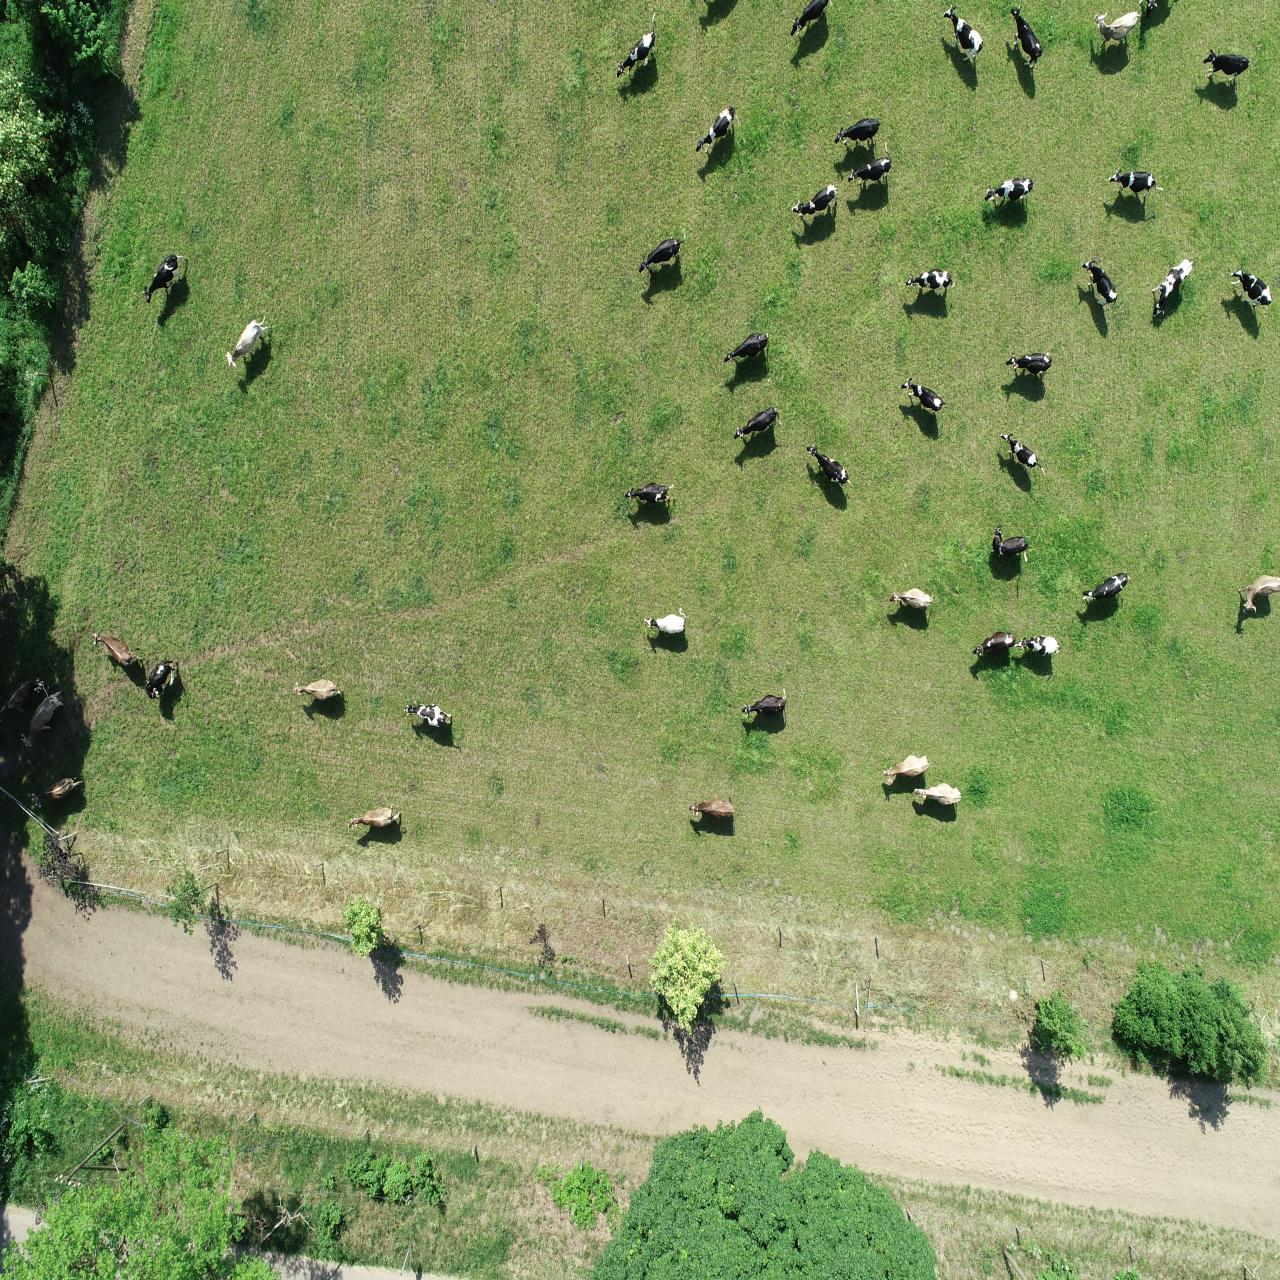cow: (86, 621, 143, 682), (1146, 257, 1198, 320), (692, 103, 744, 163), (222, 312, 273, 372), (940, 2, 986, 67), (636, 230, 690, 280), (1005, 2, 1043, 72), (1078, 253, 1118, 319), (720, 327, 771, 377), (141, 250, 188, 305), (138, 644, 178, 704), (803, 442, 852, 490), (897, 374, 947, 421), (733, 403, 785, 448), (1107, 165, 1166, 204), (846, 144, 896, 191), (1075, 570, 1132, 610), (1092, 5, 1141, 52), (1226, 265, 1273, 313), (999, 430, 1048, 476), (980, 173, 1034, 211), (346, 802, 403, 837), (1201, 45, 1251, 86), (401, 696, 456, 733), (620, 477, 681, 510), (1002, 347, 1055, 384), (788, 179, 837, 219), (686, 794, 743, 826), (987, 523, 1032, 565), (966, 626, 1017, 662), (642, 604, 690, 641), (287, 674, 346, 704), (903, 261, 959, 293), (878, 753, 933, 784), (738, 687, 789, 720), (887, 583, 935, 617), (832, 115, 884, 147), (1014, 628, 1062, 660), (912, 781, 964, 810)
